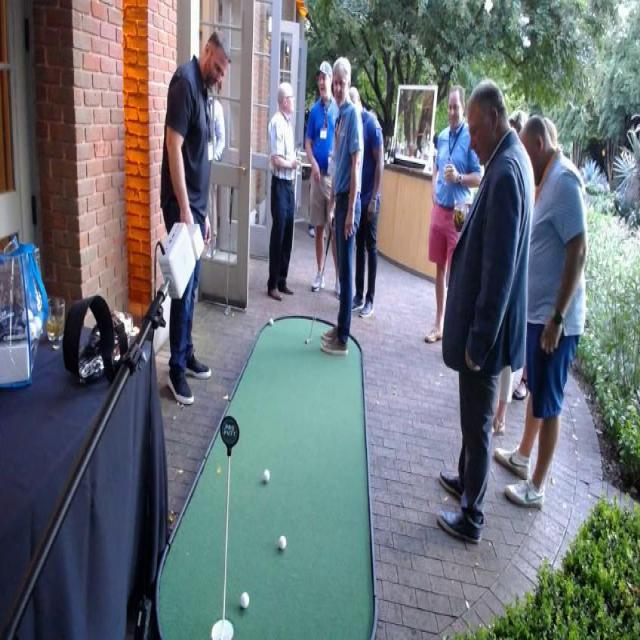GolfBall: (234, 588, 255, 611), (272, 530, 290, 552), (258, 464, 274, 487), (265, 312, 277, 330)
